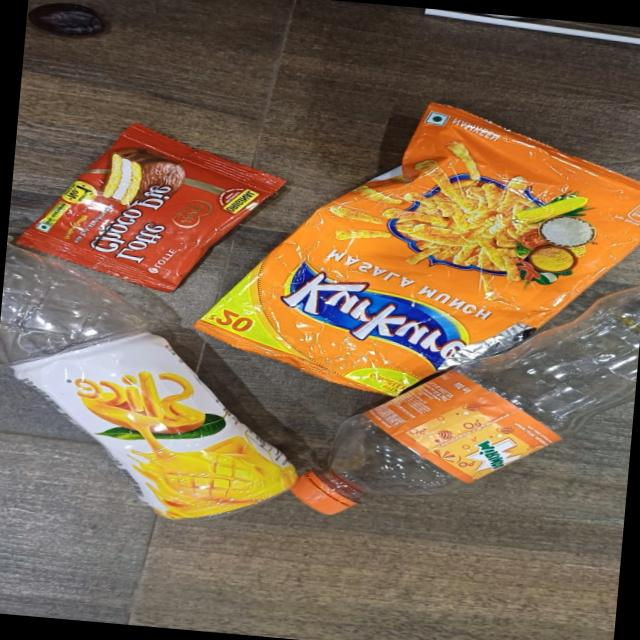Plastic-NonBio: (190, 80, 640, 420), (289, 251, 640, 541), (0, 230, 327, 532), (2, 111, 292, 304)
